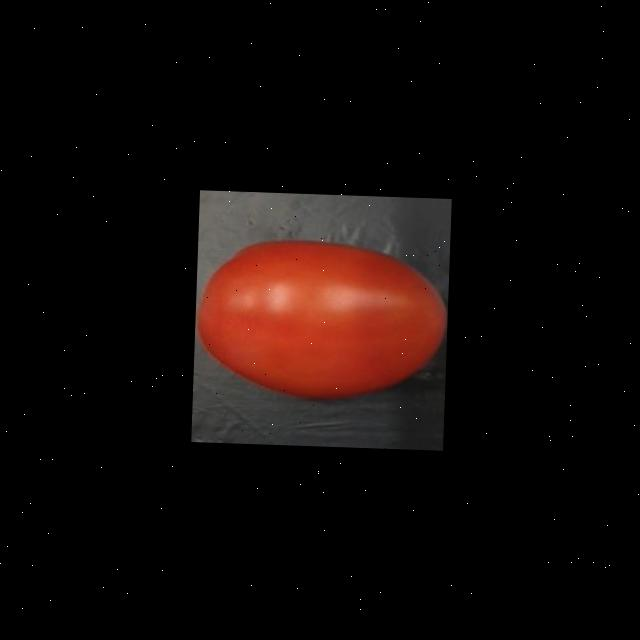tomato: (191, 228, 448, 408)
